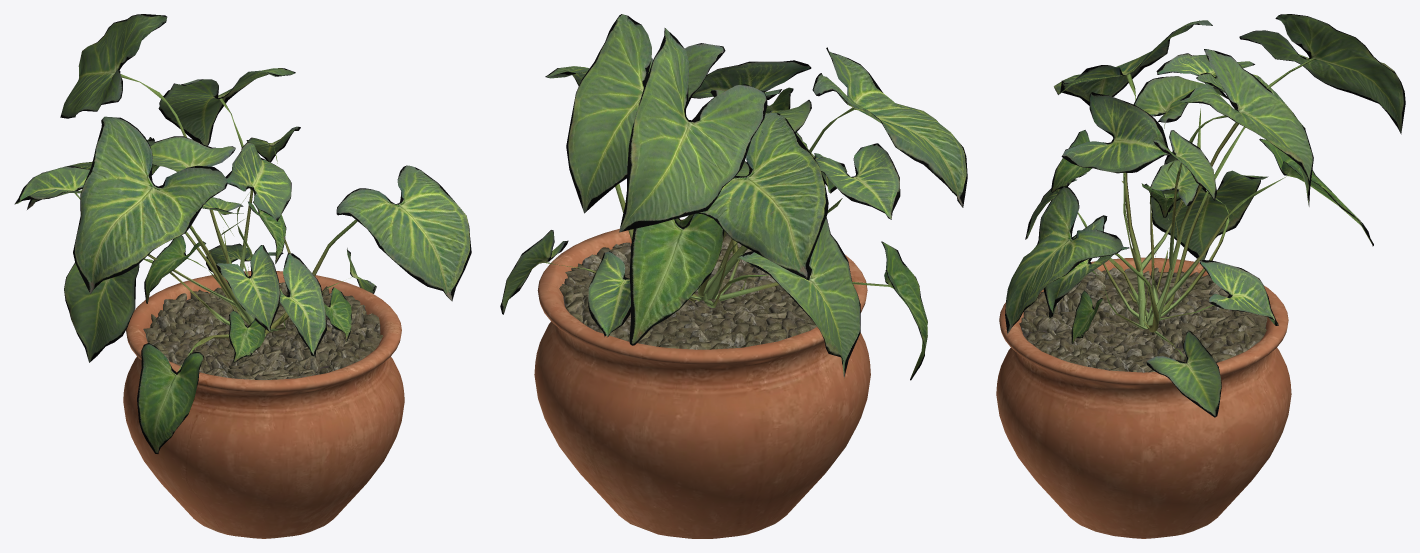
The model's file is ph-potted-plant-02.glb.
3 views of the same model, side by side, from view 1: azimuth 30°, elevation 25°; view 2: azimuth 150°, elevation 25°; view 3: azimuth 270°, elevation 25° (orthographic). The views are drawn at different scales.
Visible parts, largest first — view 1: potted_plant_02_leaves, potted_plant_02_pot; view 2: potted_plant_02_leaves, potted_plant_02_pot; view 3: potted_plant_02_pot, potted_plant_02_leaves.
Part boxes in pixels (x1,y1,x2,y2): potted_plant_02_leaves: (14, 14, 471, 453); potted_plant_02_pot: (123, 271, 404, 538); potted_plant_02_leaves: (500, 14, 967, 380); potted_plant_02_pot: (534, 219, 870, 538); potted_plant_02_pot: (996, 257, 1291, 538); potted_plant_02_leaves: (1005, 14, 1405, 417).
Bounding box in the file's own units: 0.7009 × 0.8411 × 0.6574.
Materials: 2 (2 with a texture image).
